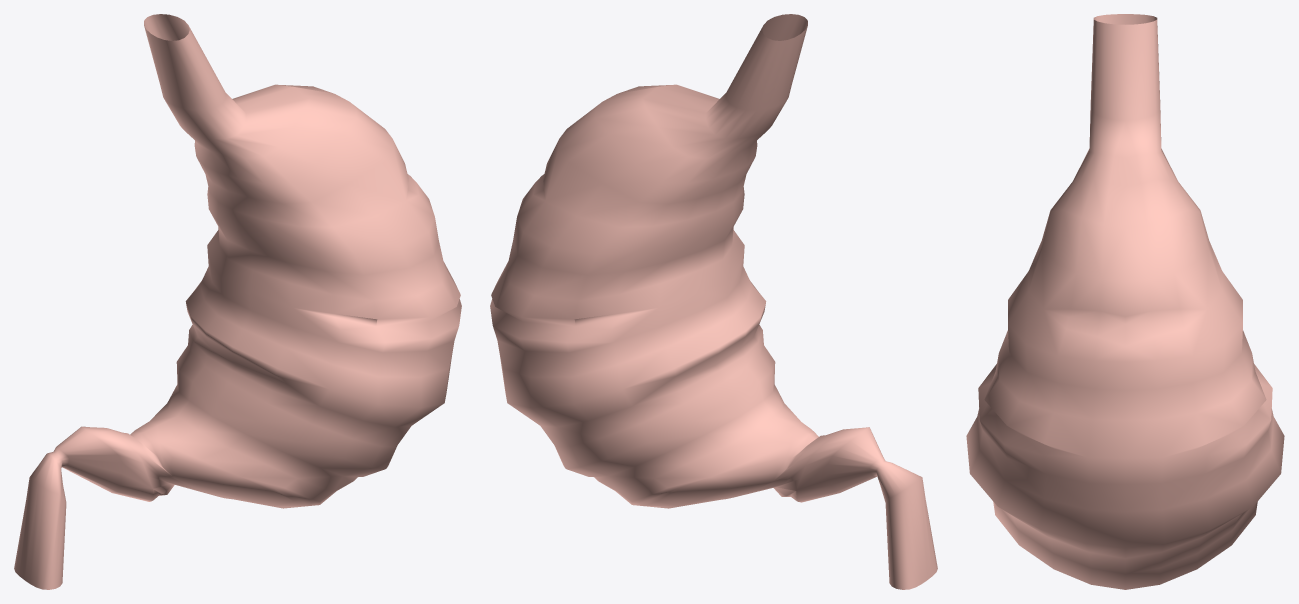
Rendered from stomach.fbx.
The picture shows the model from 3 angles, left to right: view 1: azimuth 30°, elevation 25°; view 2: azimuth 150°, elevation 25°; view 3: azimuth 270°, elevation 25°; orthographic projection.
Visible parts, largest first — view 1: Stomac_internal; view 2: Stomac_internal; view 3: Stomac_internal.
Part boxes in pixels (bbox=[...]): Stomac_internal: bbox=[14, 14, 461, 589]; Stomac_internal: bbox=[490, 14, 937, 589]; Stomac_internal: bbox=[966, 14, 1284, 589].
Size of the model in its own units: 867 by 1045 by 573.
